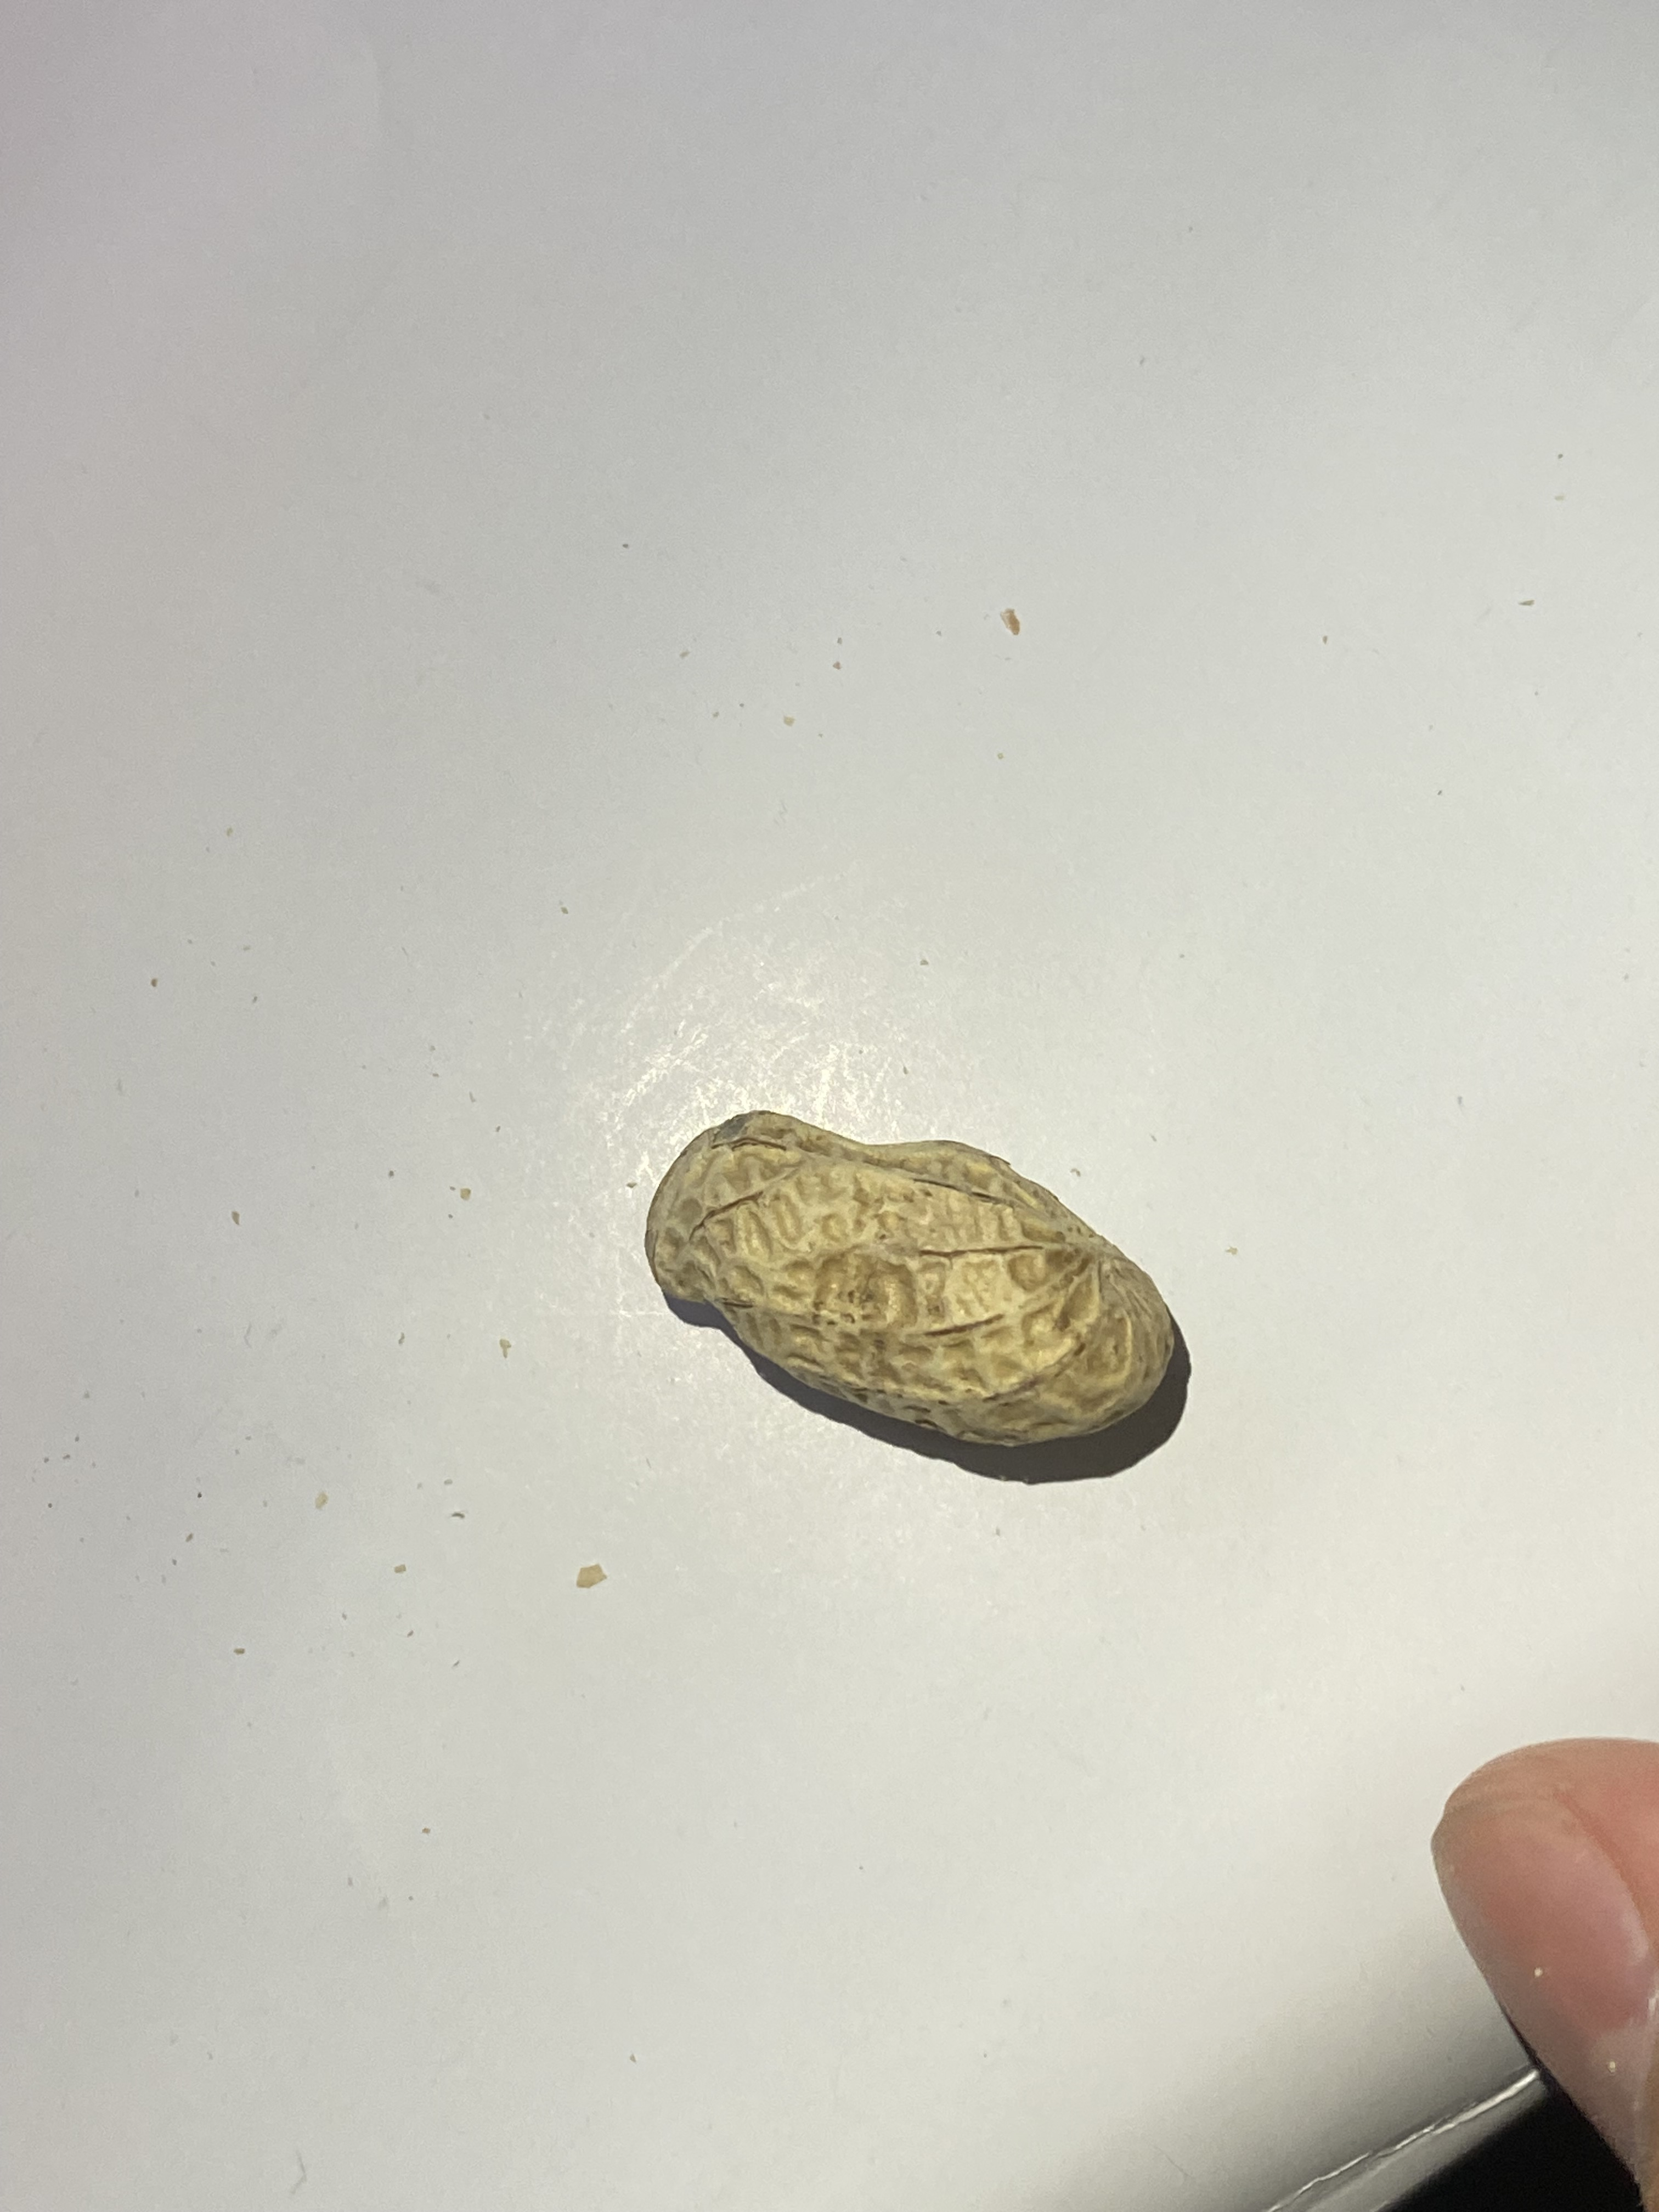kacang1: (636, 1103, 1194, 1446)
